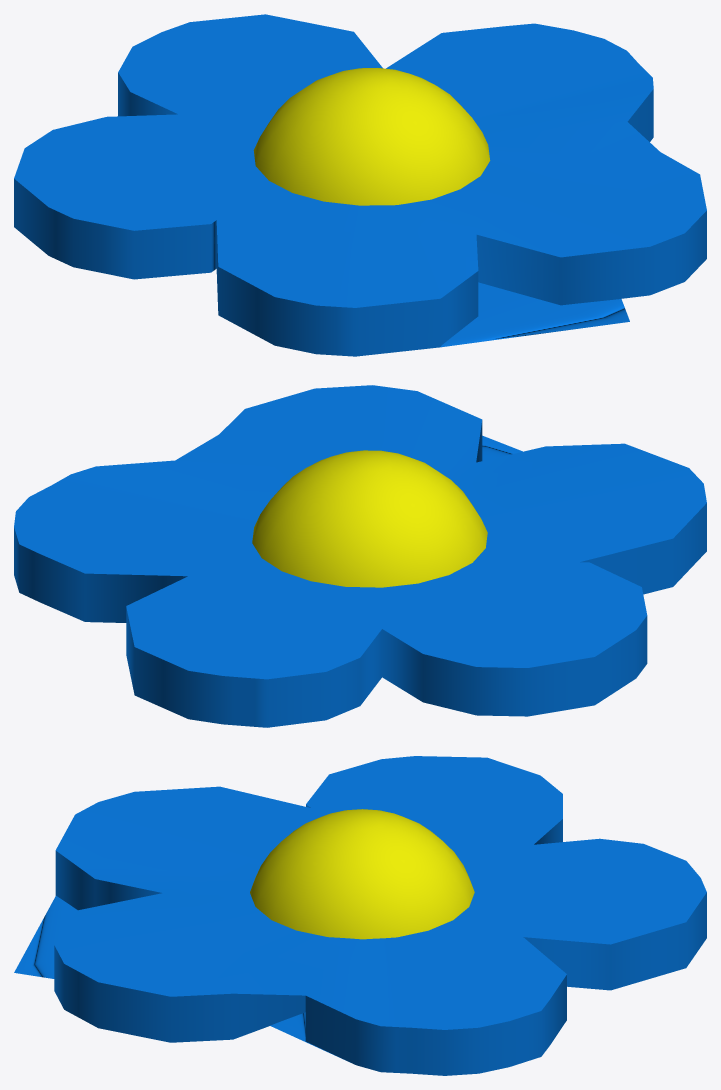
The model's file is Flower.fbx.
The picture shows the model from 3 angles, top to bottom: view 1: azimuth 30°, elevation 25°; view 2: azimuth 150°, elevation 25°; view 3: azimuth 270°, elevation 25°; orthographic projection. The views are drawn at different scales.
Visible parts, largest first — view 1: pSphere2; view 2: pSphere2; view 3: pSphere2.
Part boxes in pixels (x1,y1,x2,y2): pSphere2: (14, 14, 706, 356); pSphere2: (14, 385, 706, 727); pSphere2: (14, 756, 706, 1075).
Size of the model in its own units: 1.87 by 0.3852 by 2.
